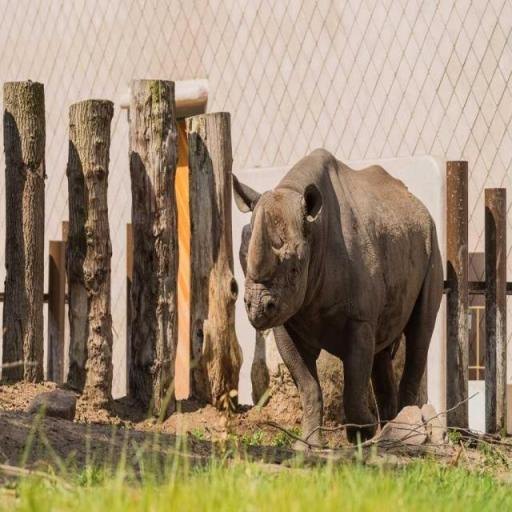Rhino: (230, 146, 444, 449)
